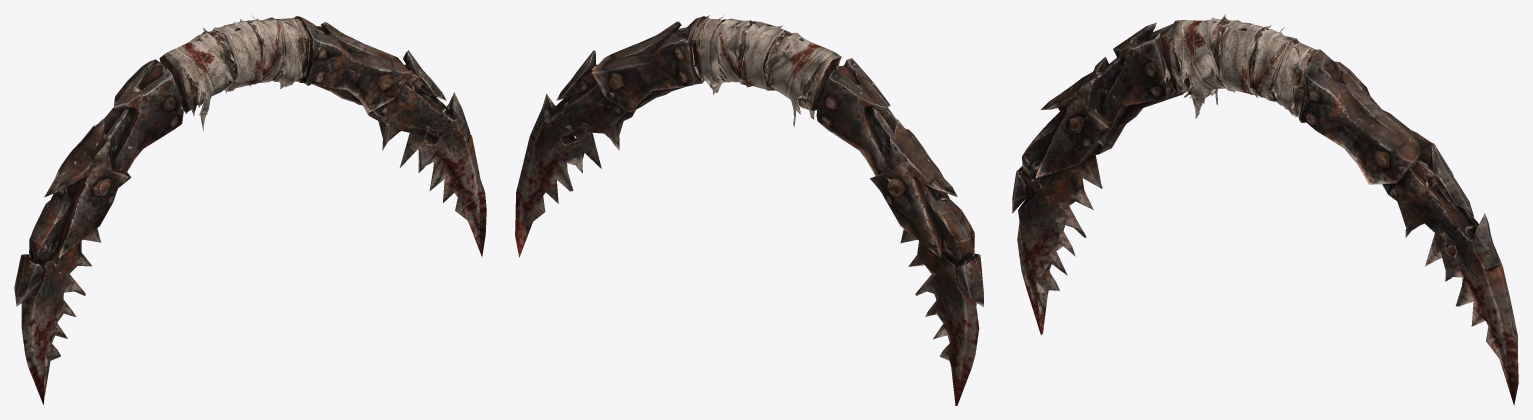
Rendered from boomerang.glb.
The picture shows the model from 3 angles, left to right: view 1: azimuth 30°, elevation 25°; view 2: azimuth 150°, elevation 25°; view 3: azimuth 330°, elevation 25°; orthographic projection. The views are drawn at different scales.
Size of the model in its own units: 1.9 by 1.29 by 0.226.
Materials: 1 (1 with a texture image).
